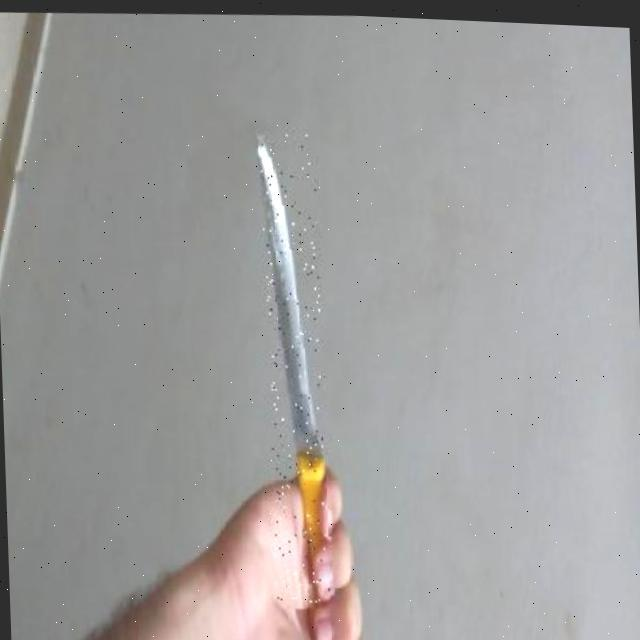knife: (258, 128, 330, 607)
